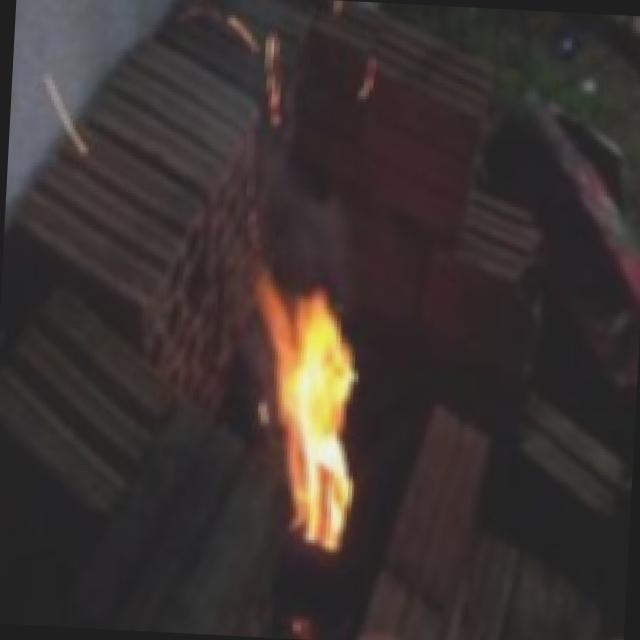fire: (222, 258, 387, 584)
